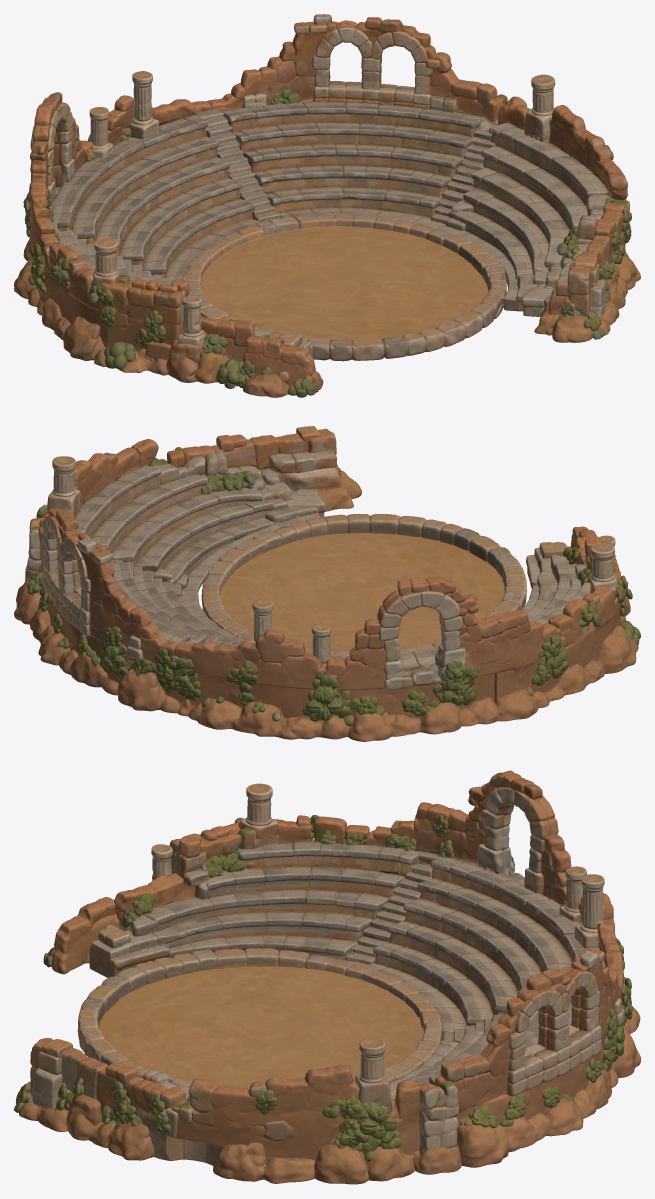
Rendered from kfb-stage-amphitheater-meshy.browser.v1.glb.
The picture shows the model from 3 angles, top to bottom: view 1: azimuth 30°, elevation 25°; view 2: azimuth 150°, elevation 25°; view 3: azimuth 270°, elevation 25°; orthographic projection. The views are drawn at different scales.
Bounding box in the file's own units: 1.9 × 0.4893 × 1.7.
Materials: 1 (1 with a texture image).
